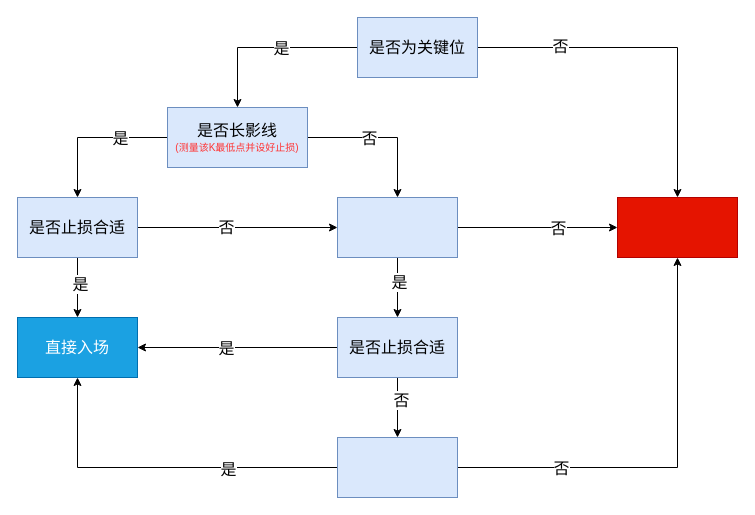
This 755x515 diagram has some shape labels left out. The centre of each missing label's shape, as x and y in pixels:
"是否回调" goes at (397,467).
"是否有信号" goes at (397,227).
"等待" goes at (677,227).
